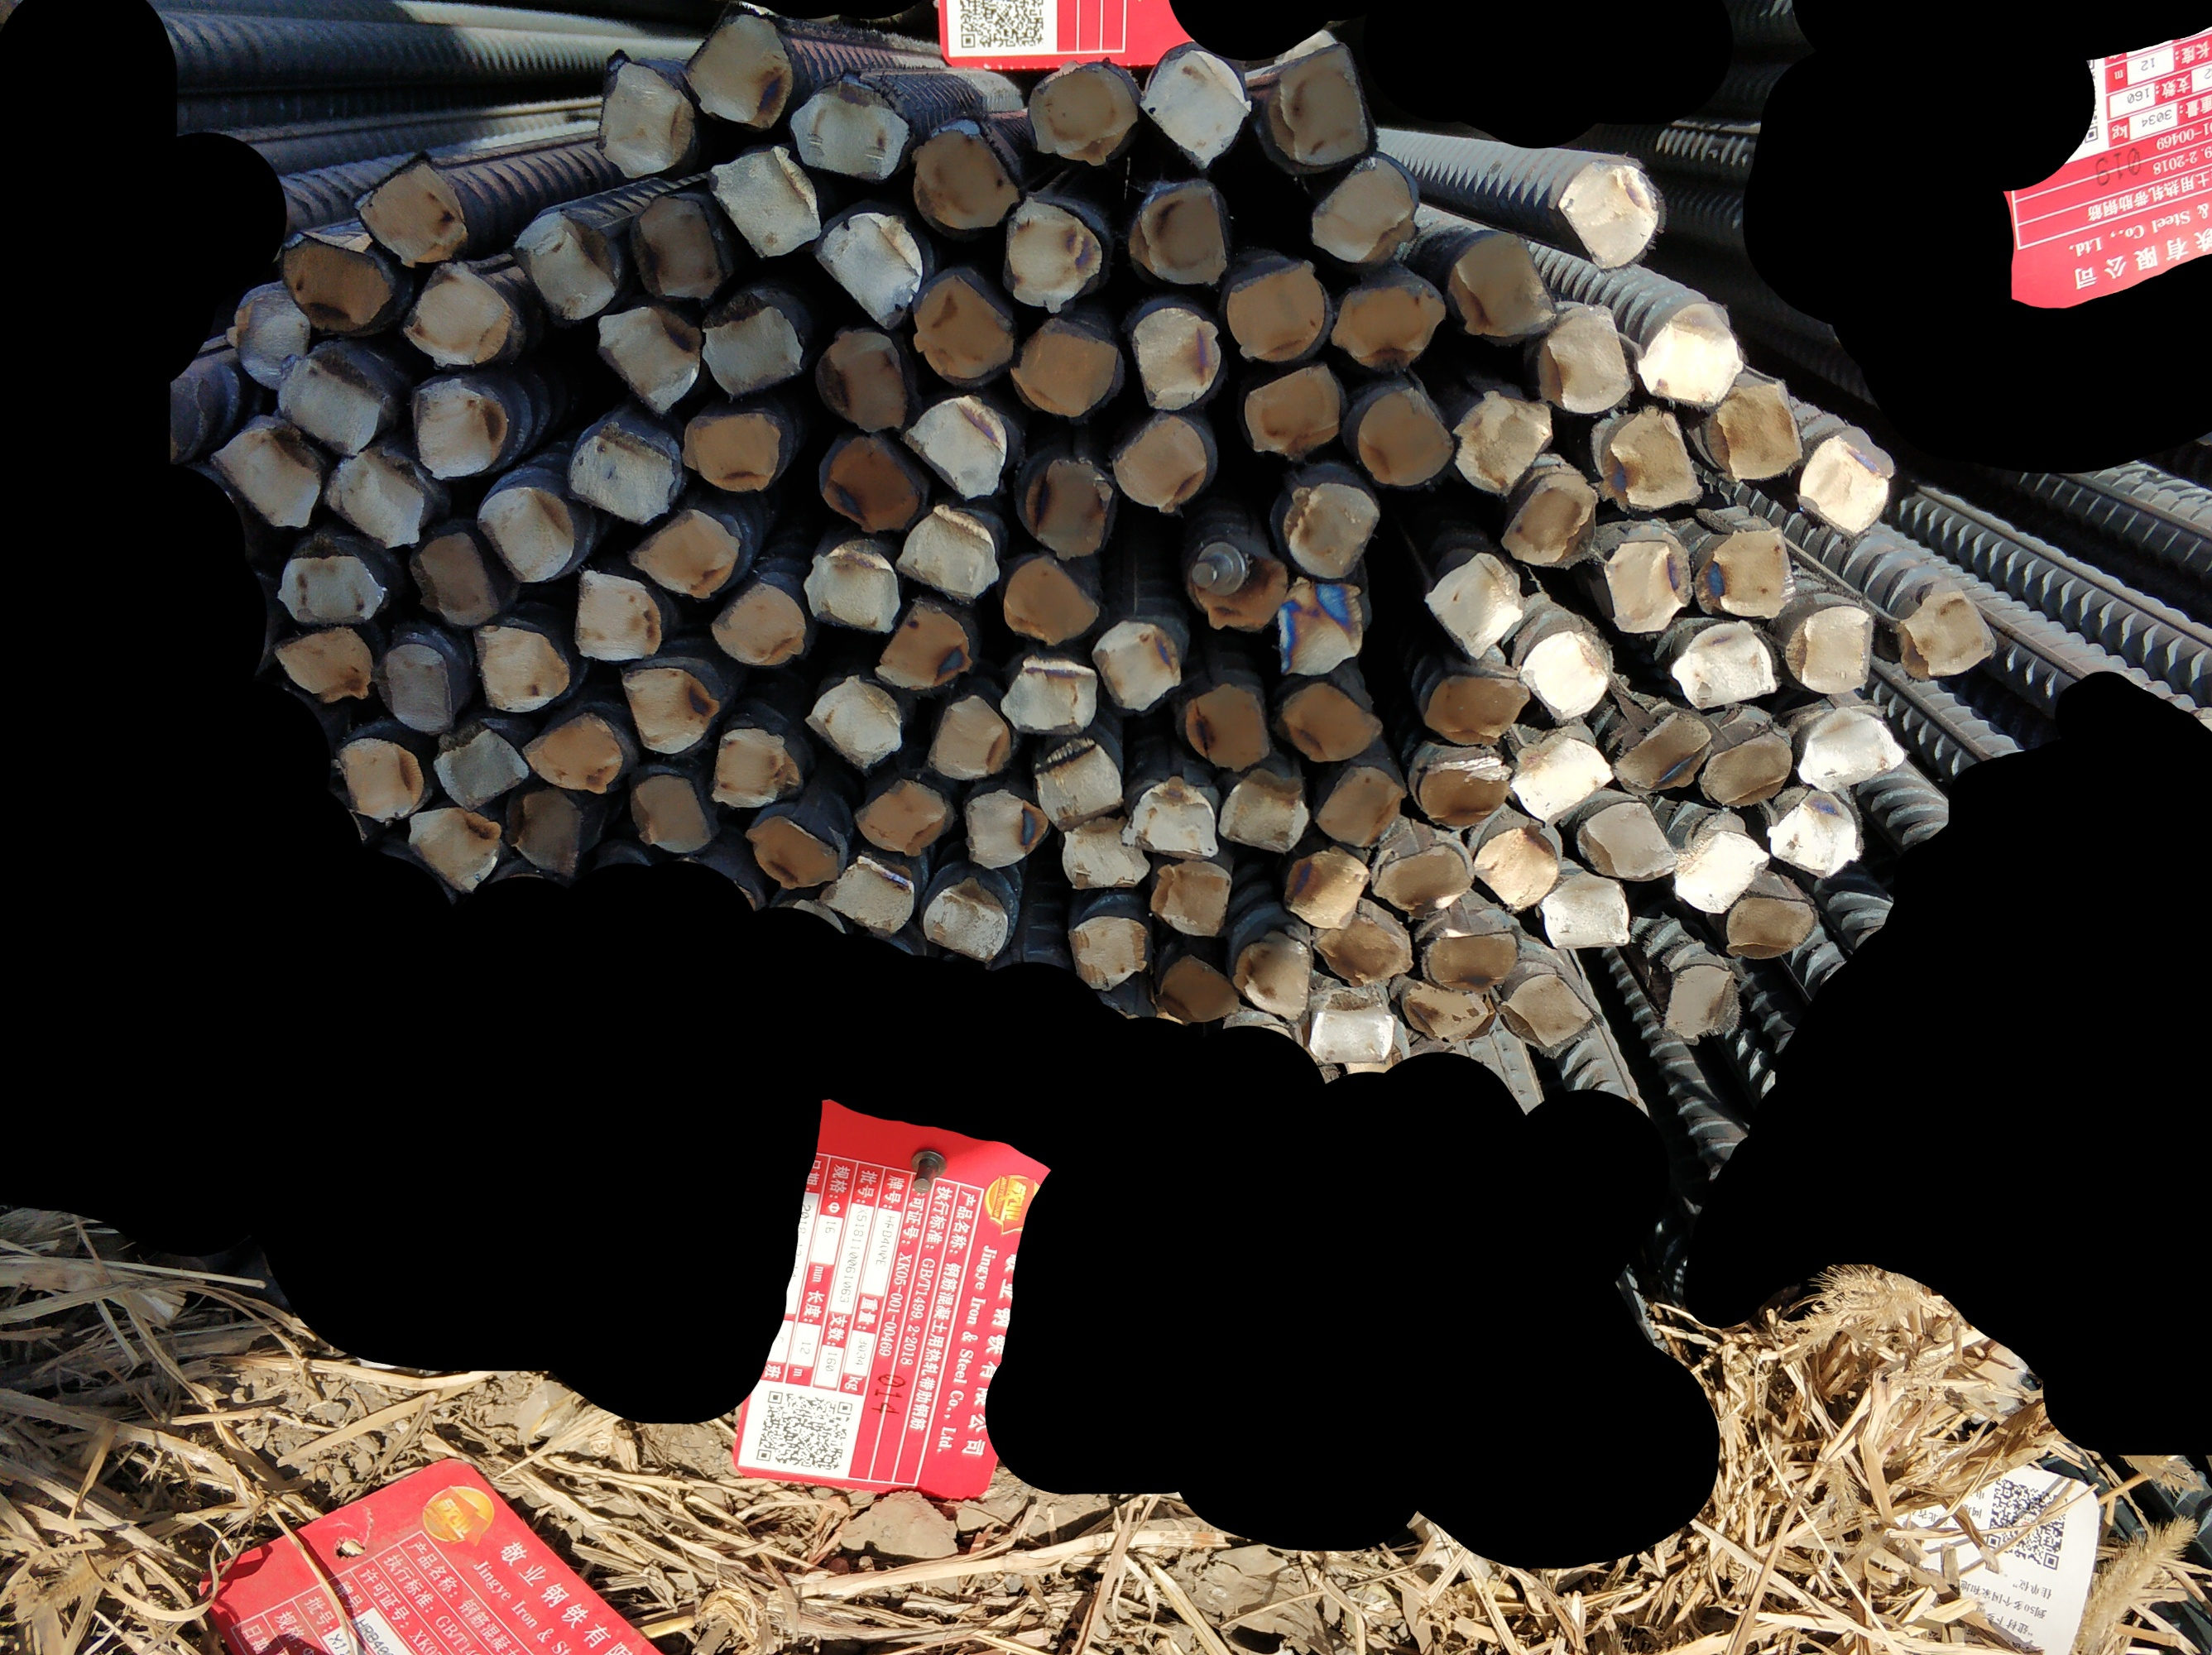rebar: (672, 2, 794, 136), (699, 137, 824, 261), (202, 412, 328, 534), (806, 207, 926, 334), (782, 66, 912, 183), (506, 207, 626, 329), (391, 257, 518, 370), (1138, 45, 1251, 172), (1263, 43, 1376, 170), (351, 155, 471, 273), (992, 196, 1110, 316), (275, 223, 396, 339), (905, 261, 1020, 384), (1788, 415, 1901, 541), (584, 297, 704, 414), (587, 59, 700, 183), (1444, 379, 1557, 502), (905, 118, 1023, 235), (1590, 403, 1708, 520), (1439, 231, 1562, 342), (1027, 57, 1145, 172), (1548, 160, 1668, 273), (1416, 551, 1531, 666), (561, 412, 674, 528), (1222, 257, 1334, 372), (271, 348, 387, 459), (1632, 299, 1748, 410), (1303, 158, 1423, 266), (891, 499, 1003, 614), (810, 433, 928, 541), (323, 442, 436, 553), (403, 367, 513, 482), (808, 323, 916, 440), (1126, 177, 1234, 292), (1534, 301, 1639, 419), (627, 188, 730, 308), (905, 389, 1011, 504), (1328, 278, 1451, 376), (1887, 577, 2000, 683), (1008, 315, 1123, 419), (1110, 403, 1211, 522), (626, 508, 745, 607), (1128, 297, 1227, 415), (1501, 728, 1619, 827), (1267, 478, 1385, 575), (1758, 774, 1864, 881), (1515, 622, 1623, 728), (1597, 537, 1703, 643), (796, 532, 904, 636), (992, 553, 1107, 650), (403, 520, 499, 636), (1015, 452, 1119, 558), (1235, 362, 1343, 464), (1706, 376, 1805, 487), (278, 537, 391, 635), (1272, 567, 1369, 680), (1795, 702, 1913, 794), (1352, 382, 1456, 487), (469, 612, 572, 718), (327, 720, 426, 829), (518, 706, 627, 805), (799, 671, 905, 772), (1086, 615, 1192, 716), (697, 299, 805, 398), (1463, 810, 1562, 918), (1498, 961, 1607, 1059), (476, 482, 577, 586), (1206, 763, 1312, 862), (702, 575, 810, 673), (1691, 523, 1798, 621), (1609, 709, 1720, 803), (1185, 537, 1286, 640), (565, 567, 669, 666), (1274, 678, 1388, 767), (1498, 473, 1602, 570), (400, 798, 506, 894), (1307, 906, 1420, 994), (1418, 664, 1531, 753), (1123, 765, 1223, 864), (617, 662, 721, 758), (1663, 622, 1779, 708), (992, 650, 1102, 741), (869, 596, 980, 685), (1027, 735, 1128, 833), (1670, 821, 1772, 916), (431, 721, 535, 815), (705, 715, 806, 810), (919, 695, 1022, 789), (1569, 796, 1679, 883), (264, 628, 381, 709), (1308, 760, 1409, 852), (1534, 862, 1635, 954), (683, 405, 784, 497), (228, 287, 315, 393), (1783, 603, 1880, 697), (1183, 676, 1272, 779), (853, 772, 959, 857), (493, 777, 582, 878), (1413, 748, 1513, 836), (1056, 810, 1157, 895), (738, 810, 841, 894), (1369, 840, 1475, 920), (1275, 843, 1373, 930), (374, 638, 459, 737), (1232, 925, 1315, 1026), (1703, 721, 1793, 814), (957, 784, 1050, 873), (622, 772, 716, 859), (921, 876, 1015, 963), (1149, 850, 1235, 944), (824, 850, 916, 937), (1149, 940, 1242, 1026), (1390, 970, 1500, 1043), (1416, 921, 1520, 998), (1060, 911, 1156, 993), (1301, 993, 1399, 1069), (1665, 958, 1746, 1045), (1724, 892, 1819, 963)
